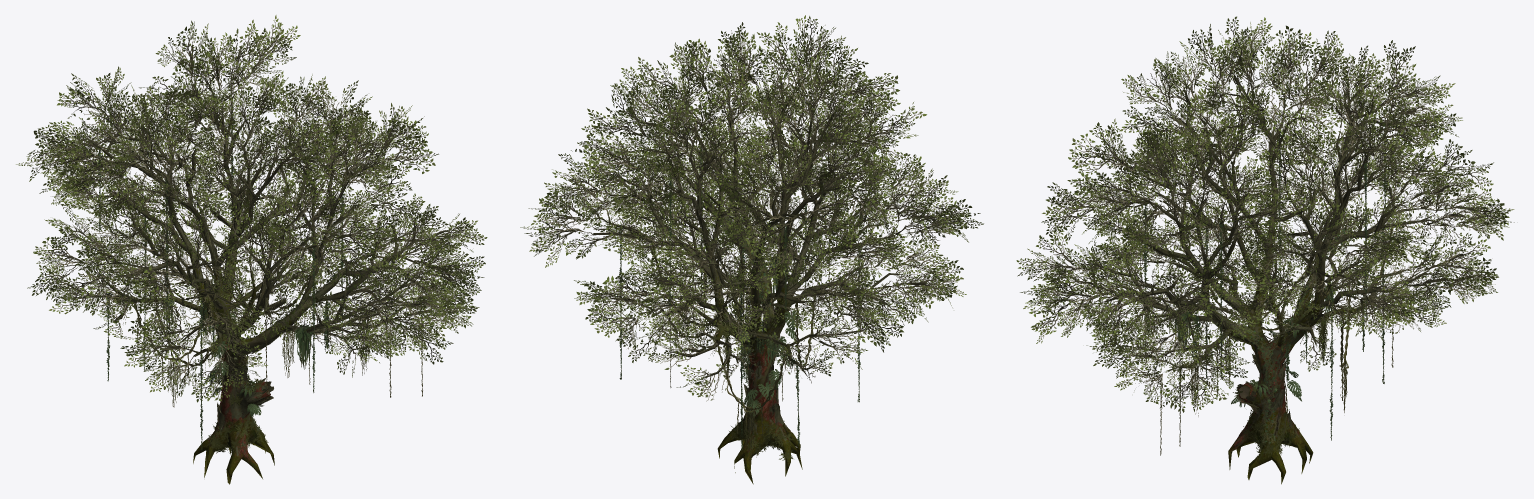
File: realjunglefull.glb
3 renders of one model, left to right at view 1: azimuth 30°, elevation 25°; view 2: azimuth 150°, elevation 25°; view 3: azimuth 270°, elevation 25°, orthographic. The views are drawn at different scales.
Parts seen in each view (by area): view 1: TreeGen_ClusterB_0, TreeGen_BarkB_0, TreeGen_ClusterB2_0, TreeGen_VinesB_0, TreeGen_CortexB_0; view 2: TreeGen_ClusterB_0, TreeGen_BarkB_0, TreeGen_ClusterB2_0, TreeGen_VinesB_0, TreeGen_CortexB_0; view 3: TreeGen_ClusterB_0, TreeGen_BarkB_0, TreeGen_ClusterB2_0, TreeGen_VinesB_0, TreeGen_CortexB_0.
Boxes of the visible parts, x1,y1,x2,y2 form: TreeGen_ClusterB_0: (16,15,487,402); TreeGen_BarkB_0: (56,41,459,484); TreeGen_ClusterB2_0: (37,42,459,386); TreeGen_VinesB_0: (98,106,422,453); TreeGen_CortexB_0: (217,291,273,431); TreeGen_ClusterB_0: (520,15,983,397); TreeGen_BarkB_0: (547,40,948,484); TreeGen_ClusterB2_0: (543,34,956,401); TreeGen_VinesB_0: (619,126,880,463); TreeGen_CortexB_0: (713,310,783,434); TreeGen_ClusterB_0: (1016,16,1514,412); TreeGen_BarkB_0: (1046,43,1488,484); TreeGen_ClusterB2_0: (1050,40,1496,394); TreeGen_VinesB_0: (1143,125,1402,458); TreeGen_CortexB_0: (1231,314,1323,428).
Bounding box in the file's own units: 12.22 × 13 × 13.91.
6 materials, 6 textured.
